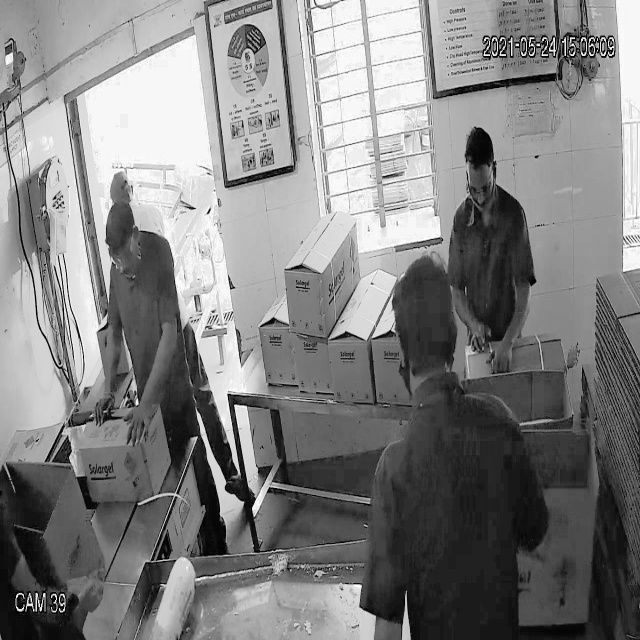Gafas: (464, 173, 496, 204)
